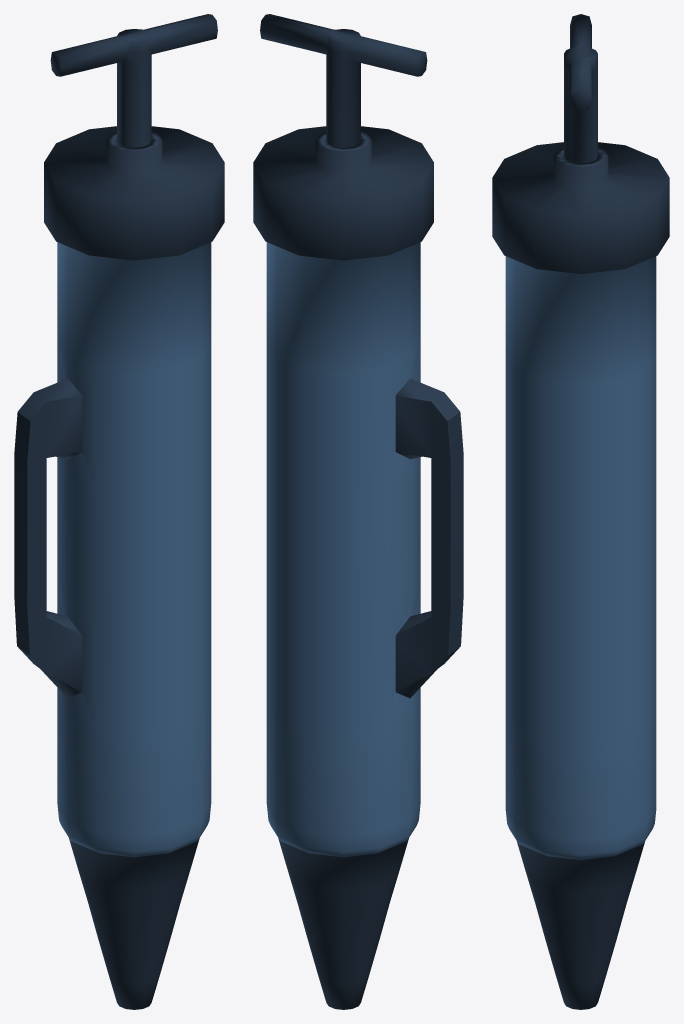
The model's file is Gun.FBX.
3 renders of one model, left to right at view 1: azimuth 30°, elevation 25°; view 2: azimuth 150°, elevation 25°; view 3: azimuth 270°, elevation 25°, orthographic.
Parts seen in each view (by area): view 1: Cone001; view 2: Cone001; view 3: Cone001.
Boxes of the visible parts, x1,y1,x2,y2 form: Cone001: [14, 14, 224, 1009]; Cone001: [253, 14, 463, 1009]; Cone001: [492, 14, 669, 1009].
Size of the model in its own units: 13.48 by 65.06 by 10.99.
